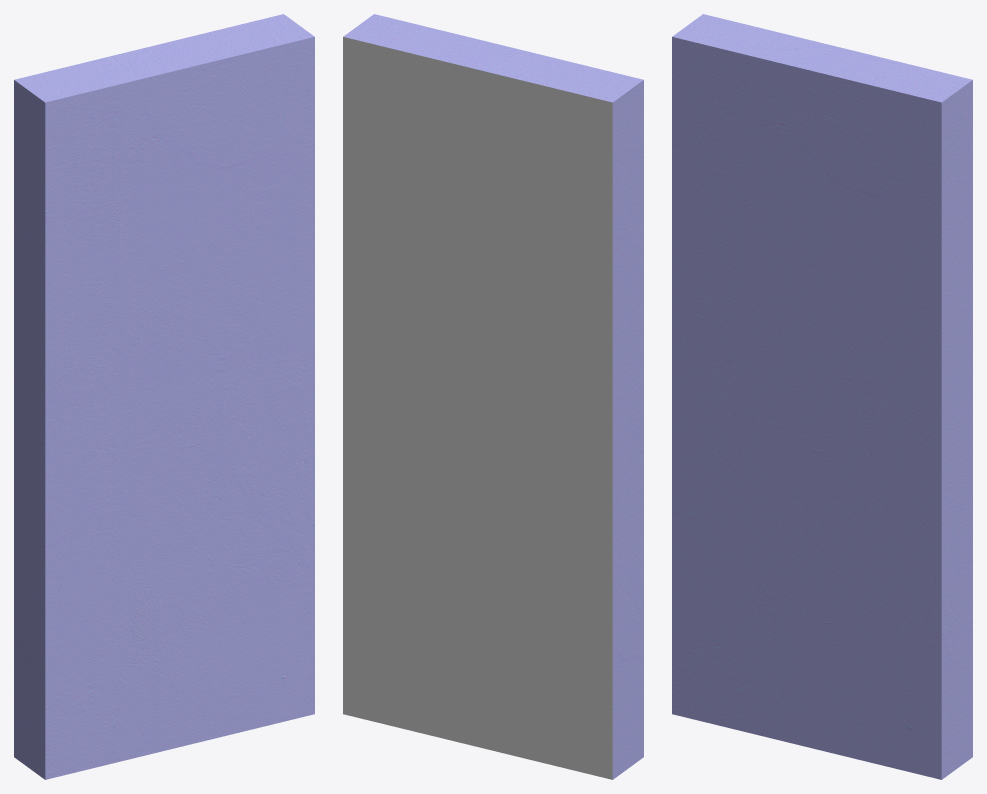
File: Wall_2_4x1.fbx
The picture shows the model from 3 angles, left to right: view 1: azimuth 30°, elevation 25°; view 2: azimuth 150°, elevation 25°; view 3: azimuth 330°, elevation 25°; orthographic projection.
Visible parts, largest first — view 1: Wall_2_4x1; view 2: Wall_2_4x1; view 3: Wall_2_4x1.
Part boxes in pixels (<box>): Wall_2_4x1: <box>14,14,314,779</box>; Wall_2_4x1: <box>343,14,643,779</box>; Wall_2_4x1: <box>672,14,972,779</box>.
Size of the model in its own units: 100 by 240 by 20.
